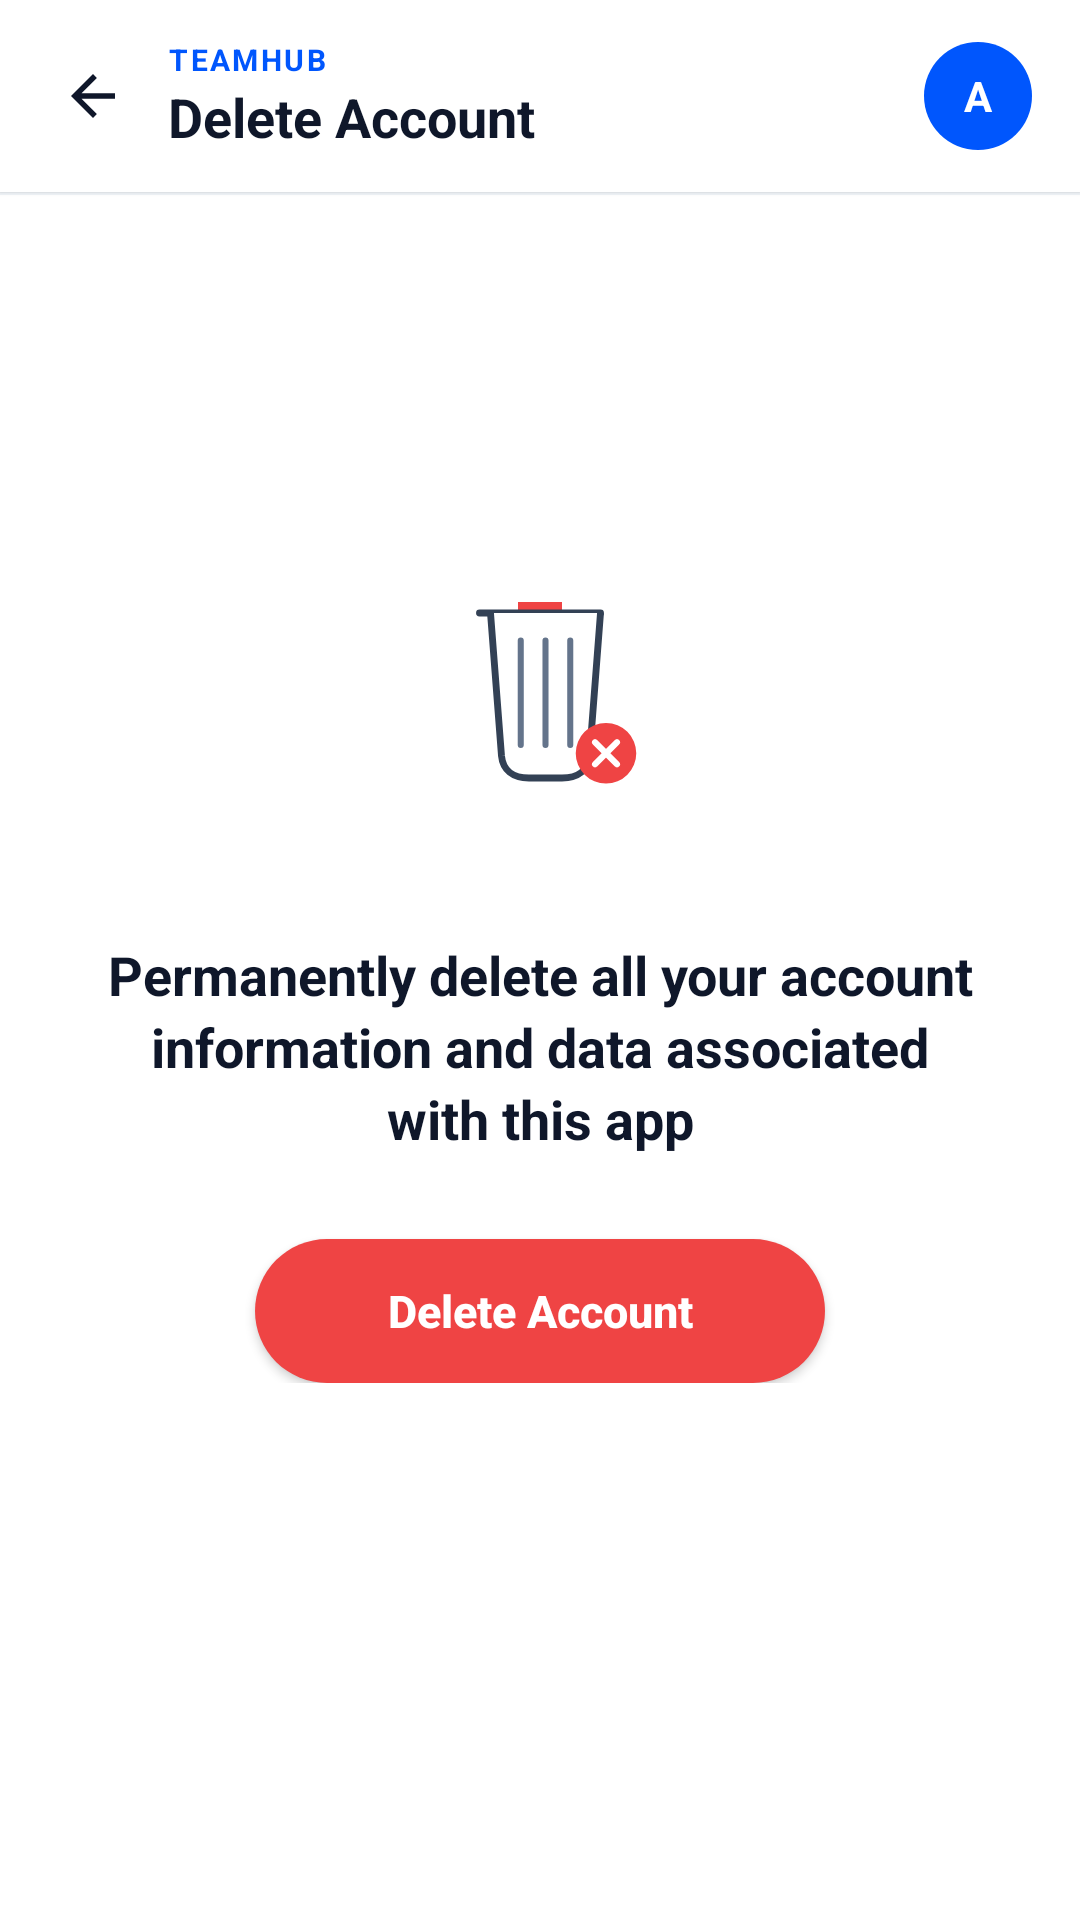

Named icons in this screenshot (1080 × 1920) and their centers, (x=x, y=y):
arrow back: (x=93, y=96)
trash delete: (x=556, y=693)
